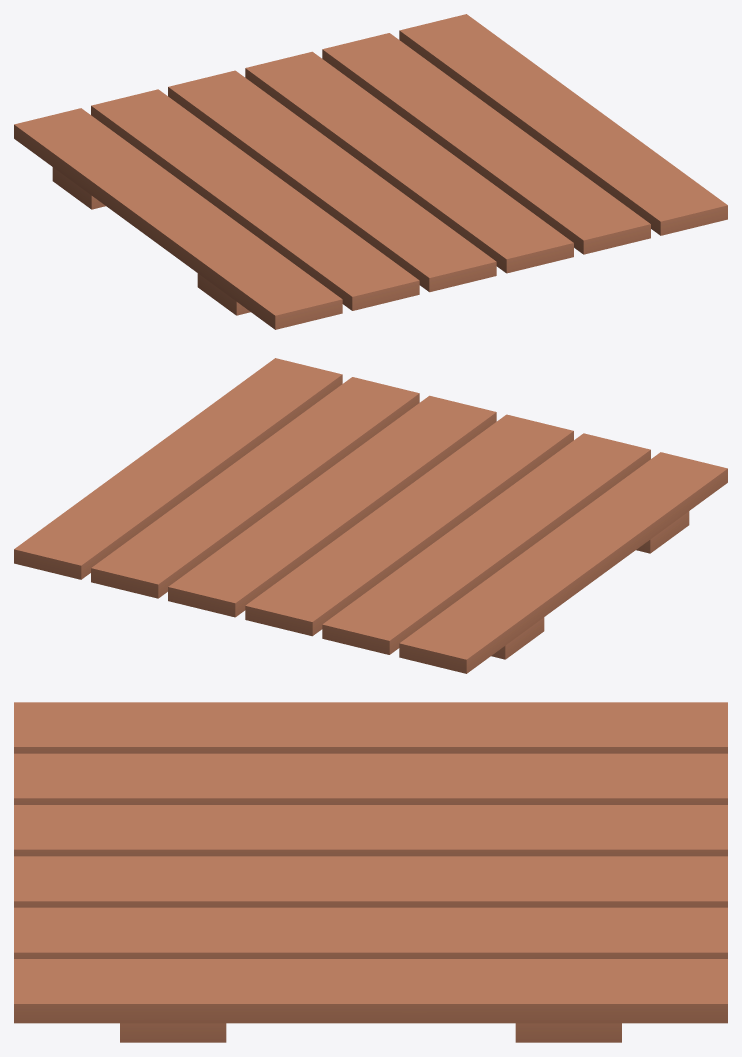
The model's file is planks.glb.
The picture shows the model from 3 angles, top to bottom: view 1: azimuth 30°, elevation 25°; view 2: azimuth 150°, elevation 25°; view 3: azimuth 270°, elevation 25°; orthographic projection. The views are drawn at different scales.
Visible parts, largest first — view 1: planks; view 2: planks; view 3: planks.
Boxes of the visible parts, x1,y1,x2,y2 form: planks: (14, 14, 727, 329); planks: (14, 358, 727, 673); planks: (14, 702, 727, 1042).
Size of the model in its own units: 1 by 0.0599 by 1.
Materials: 1 (1 with a texture image).
